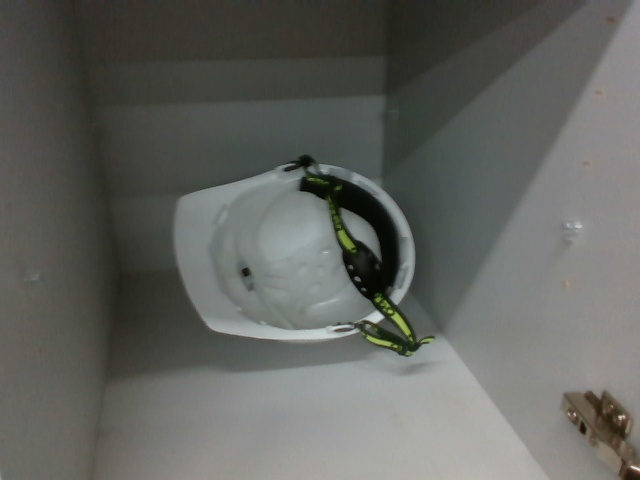helmet: (167, 159, 418, 347)
